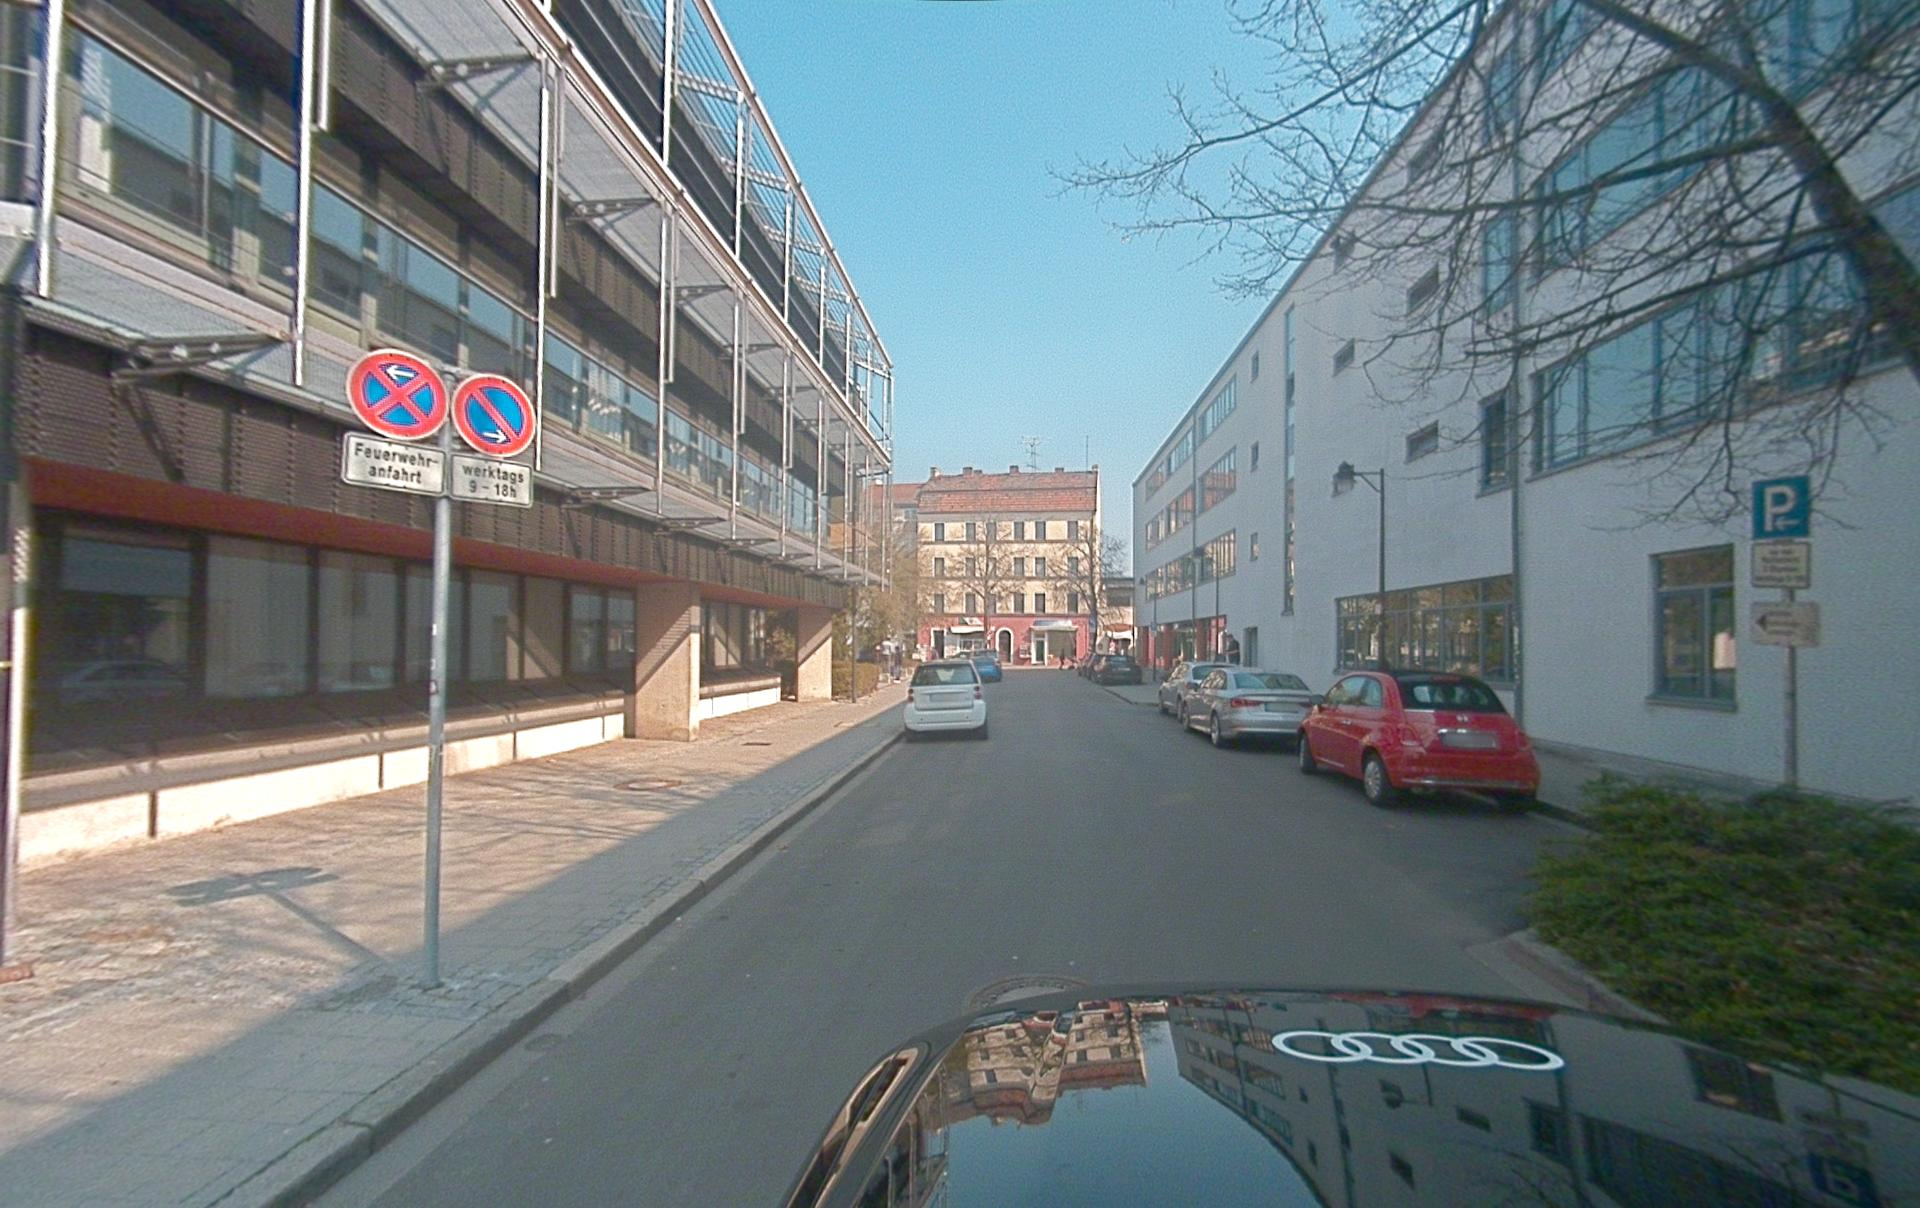car: (1298, 669, 1540, 811), (1181, 667, 1323, 747), (56, 657, 192, 710), (903, 658, 988, 735), (1158, 661, 1231, 721), (947, 650, 1002, 682), (1088, 654, 1142, 685)
traffic sign: (345, 348, 448, 440), (451, 373, 537, 458), (341, 431, 445, 497), (449, 454, 533, 508), (1752, 475, 1810, 539)
